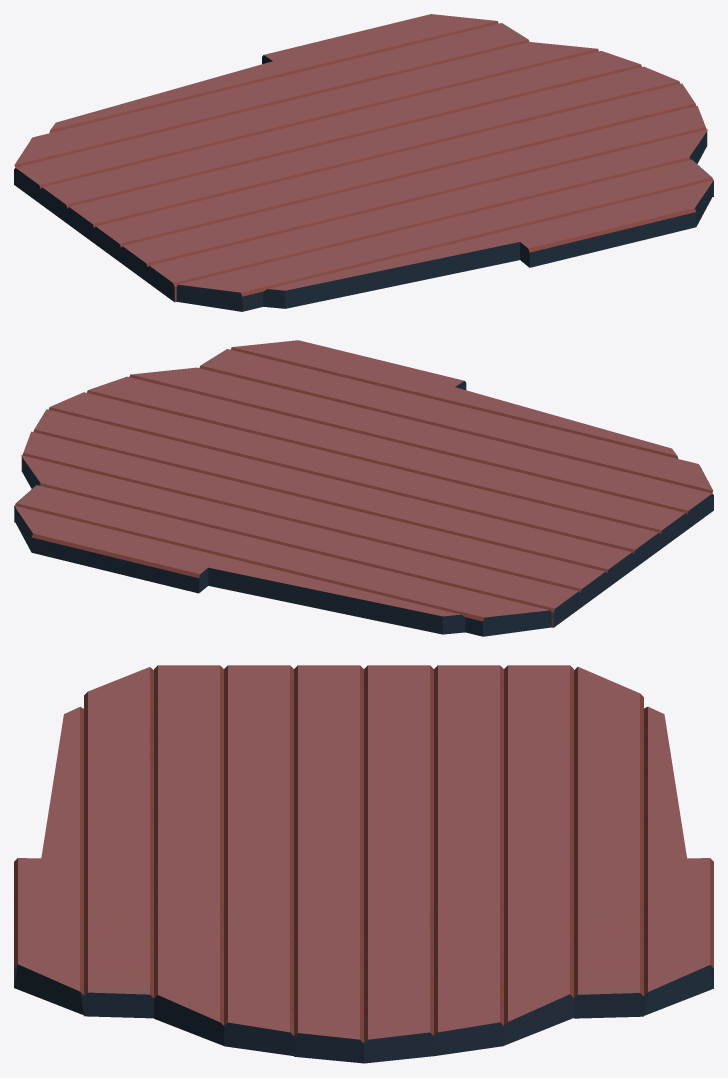
The model's file is floor.fbx.
The picture shows the model from 3 angles, top to bottom: view 1: azimuth 30°, elevation 25°; view 2: azimuth 150°, elevation 25°; view 3: azimuth 270°, elevation 25°; orthographic projection. The views are drawn at different scales.
Visible parts, largest first — view 1: floor; view 2: floor; view 3: floor.
Boxes of the visible parts, x1,y1,x2,y2 form: floor: (14,14,713,311); floor: (14,340,713,636); floor: (14,665,713,1063).
Size of the model in its own units: 506 by 15 by 400.
